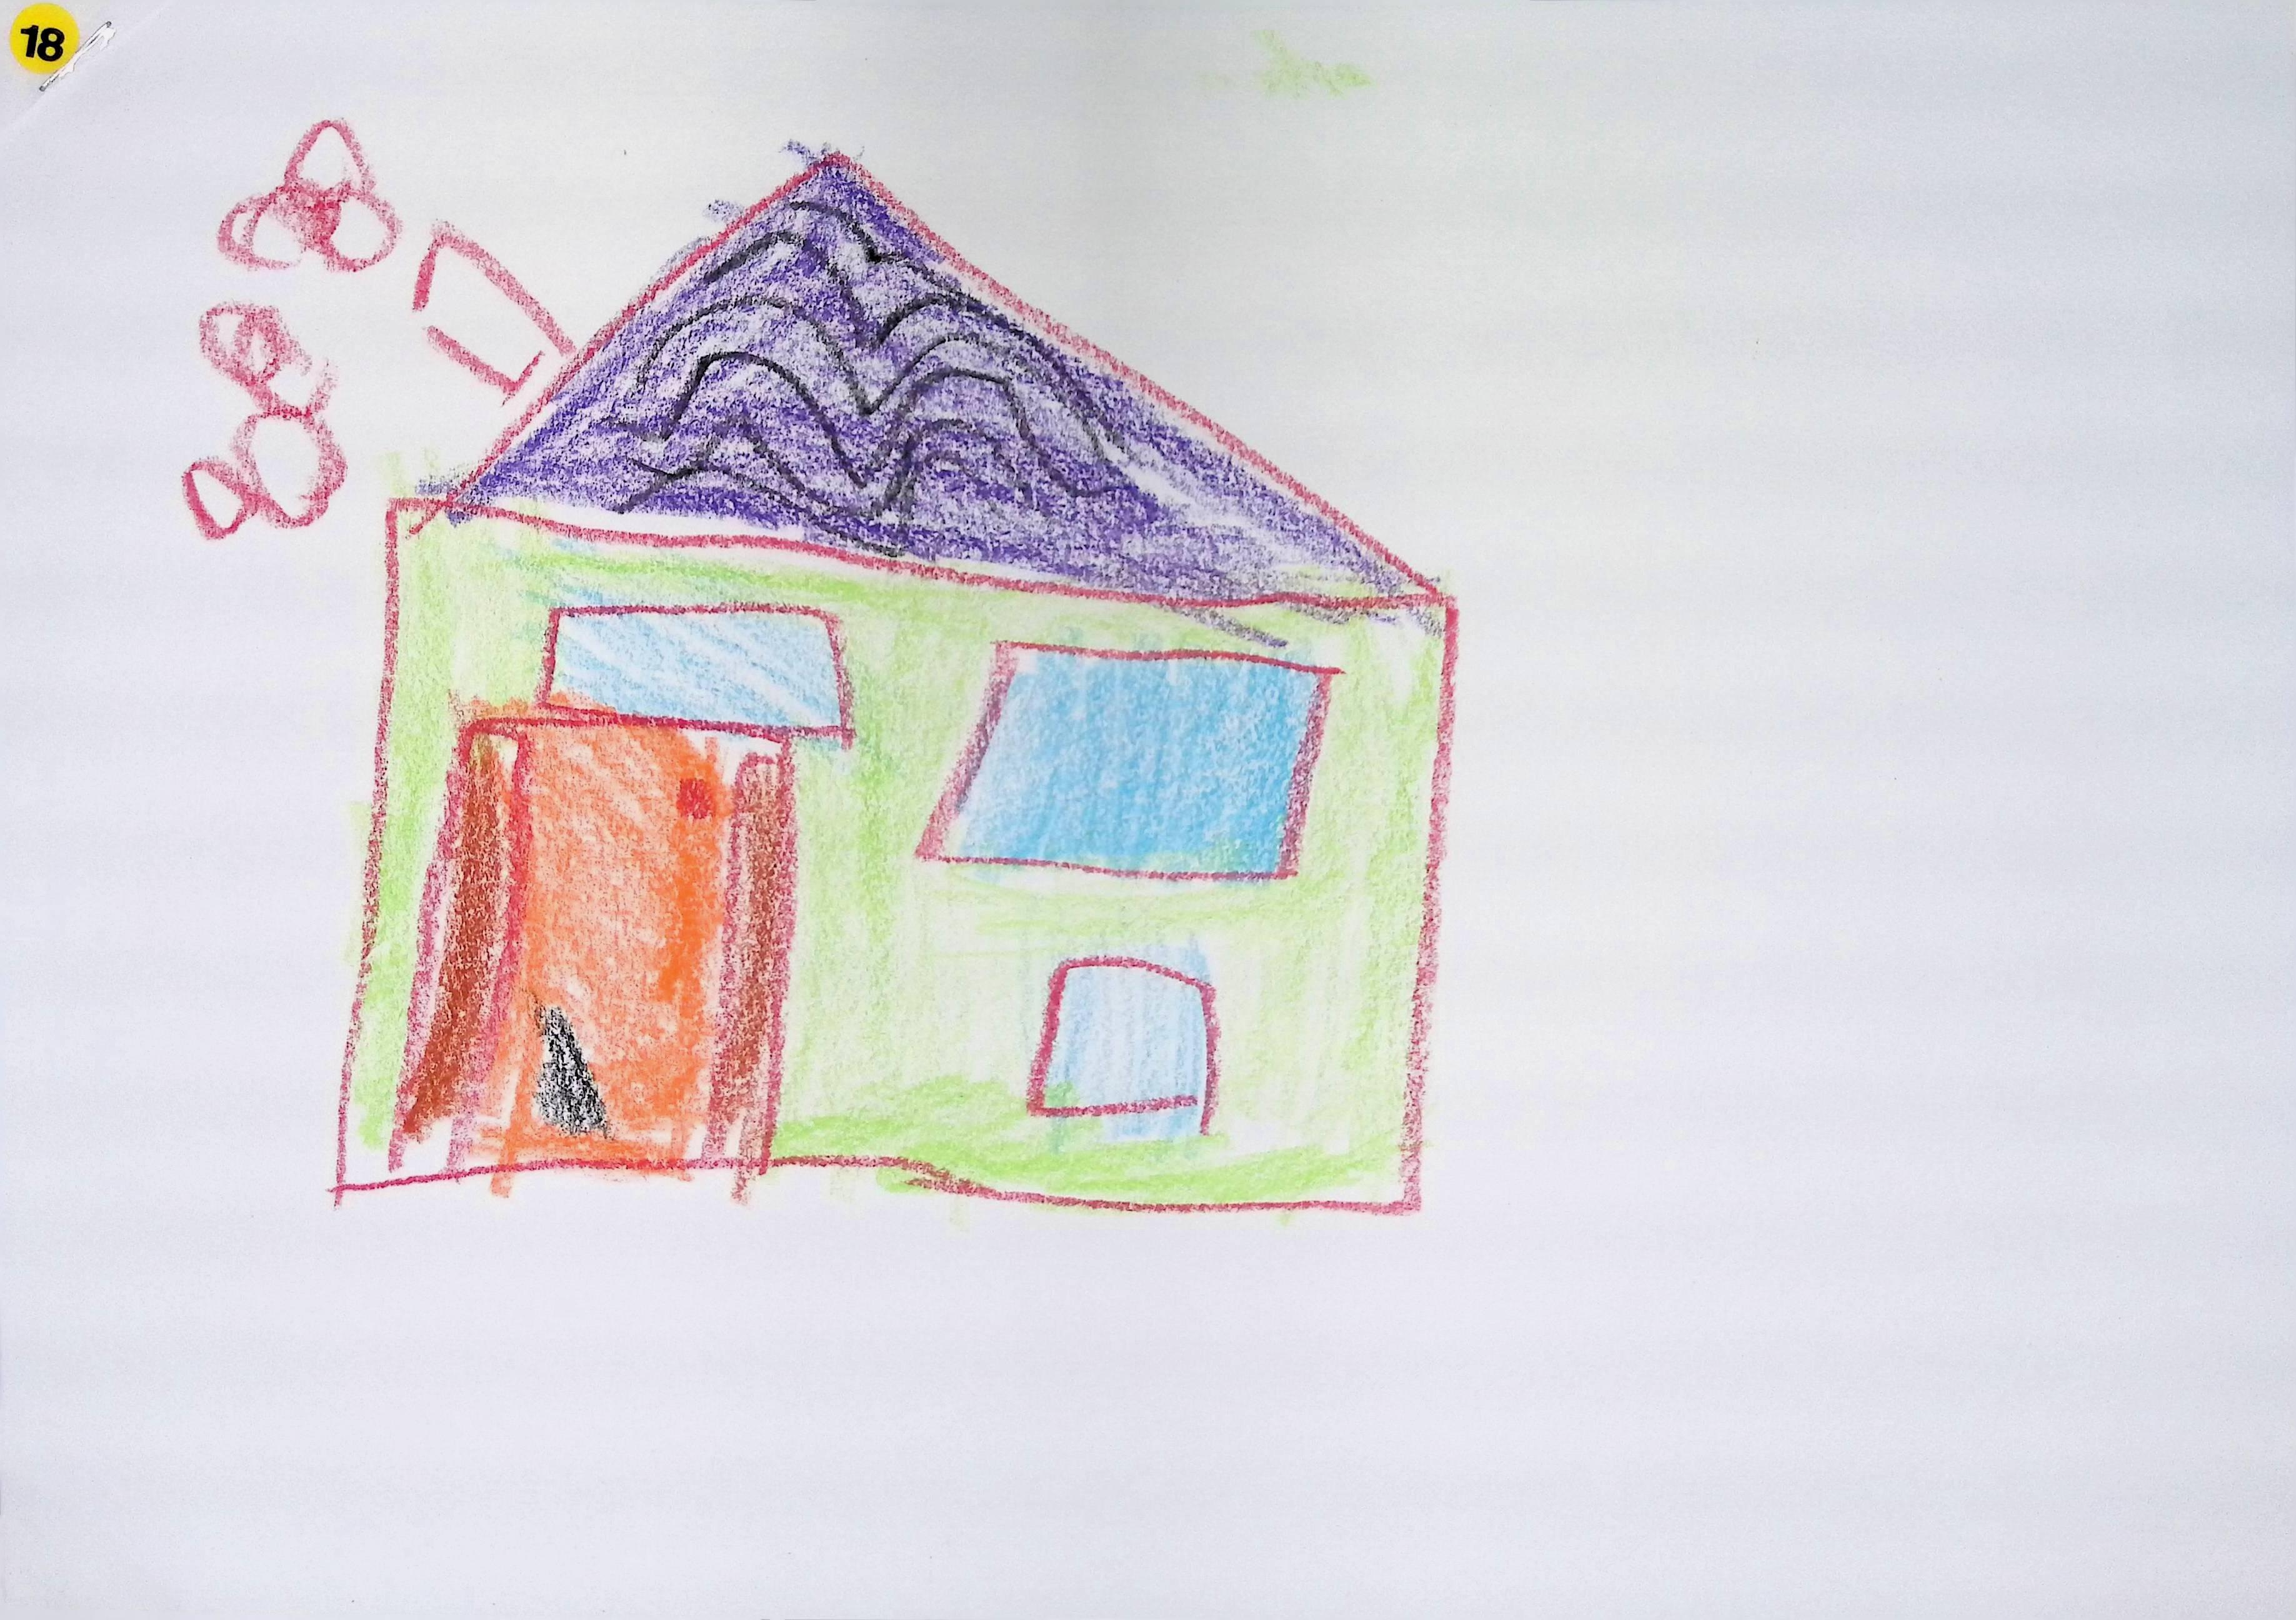chimney: (412, 223, 556, 394)
door: (391, 712, 792, 1171)
house: (335, 151, 1455, 1211)
roof: (457, 151, 1435, 601)
wall: (340, 505, 1453, 1208)
window: (922, 645, 1330, 877), (545, 607, 847, 731), (1029, 956, 1216, 1140)
